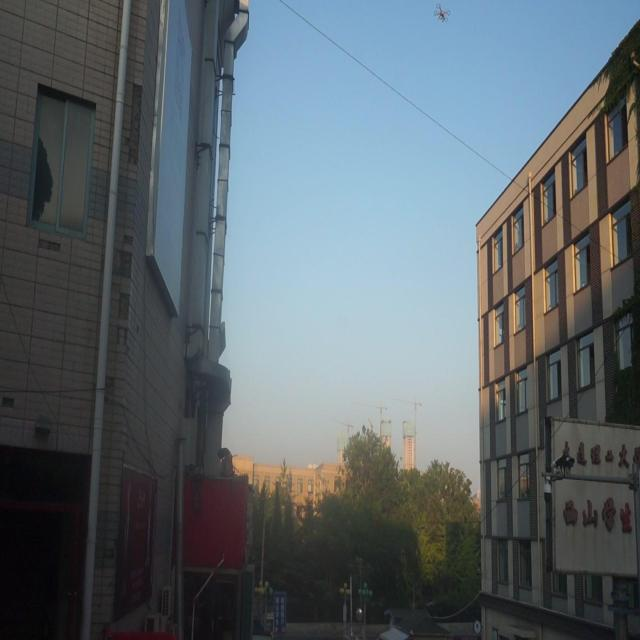drone: (430, 1, 454, 28)
